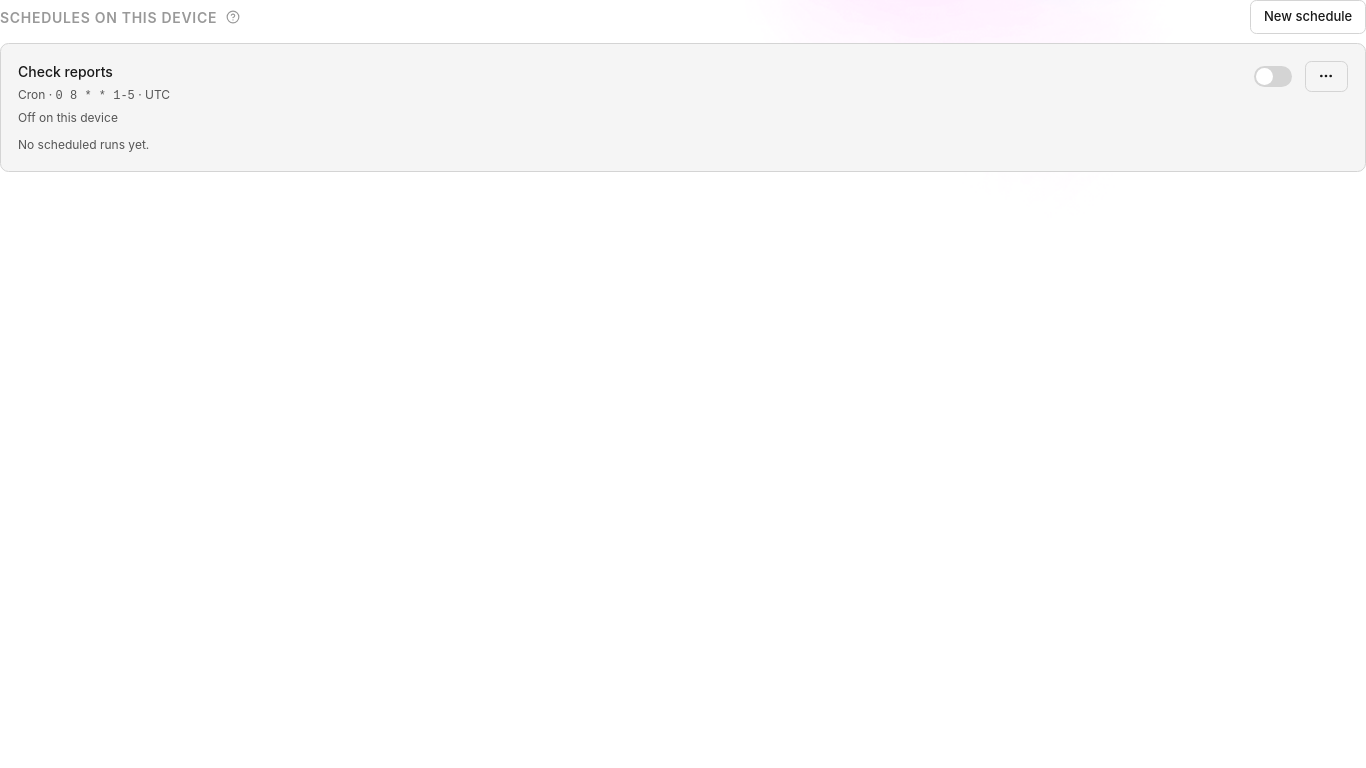
keeps a failed deletion confirmation open and reports the failure beside its action
Click the button named "Actions for Check reports" at (1326, 76), box [1304, 61, 1348, 92]
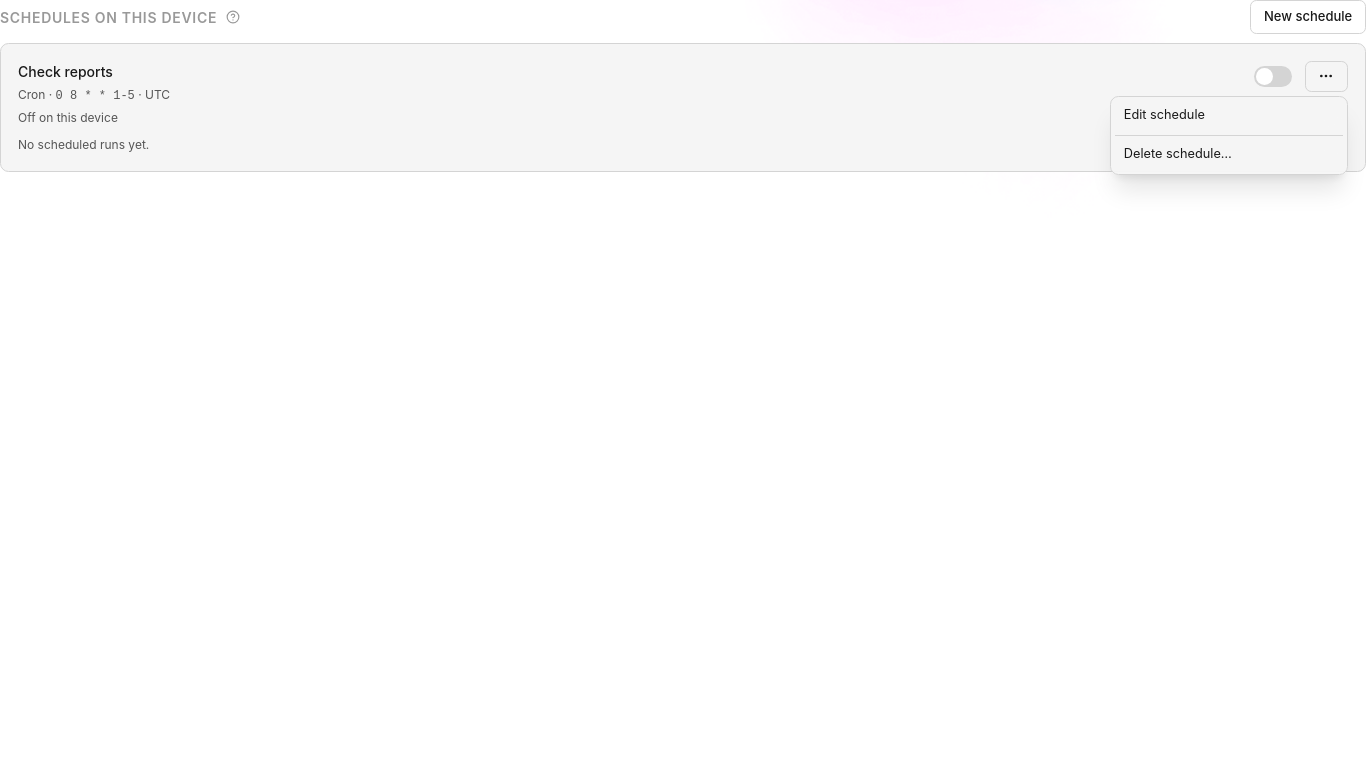
Click the menu item "Delete schedule…" at (1229, 155), box [1115, 140, 1343, 170]
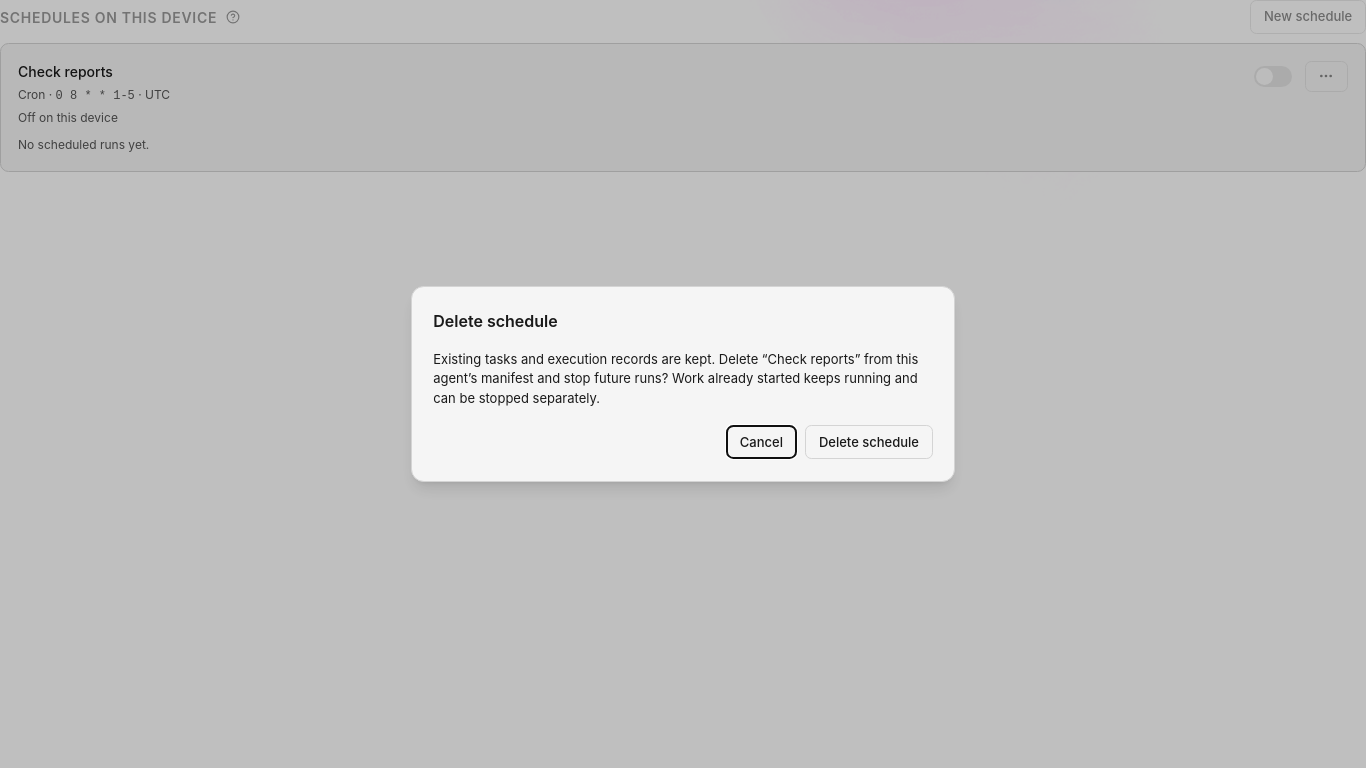
expect the dialog "Delete schedule" shows "Existing tasks and execution records are kept.": met, box [433, 351, 768, 367]
Click the button "Delete schedule" at (869, 442), box [805, 425, 933, 459]
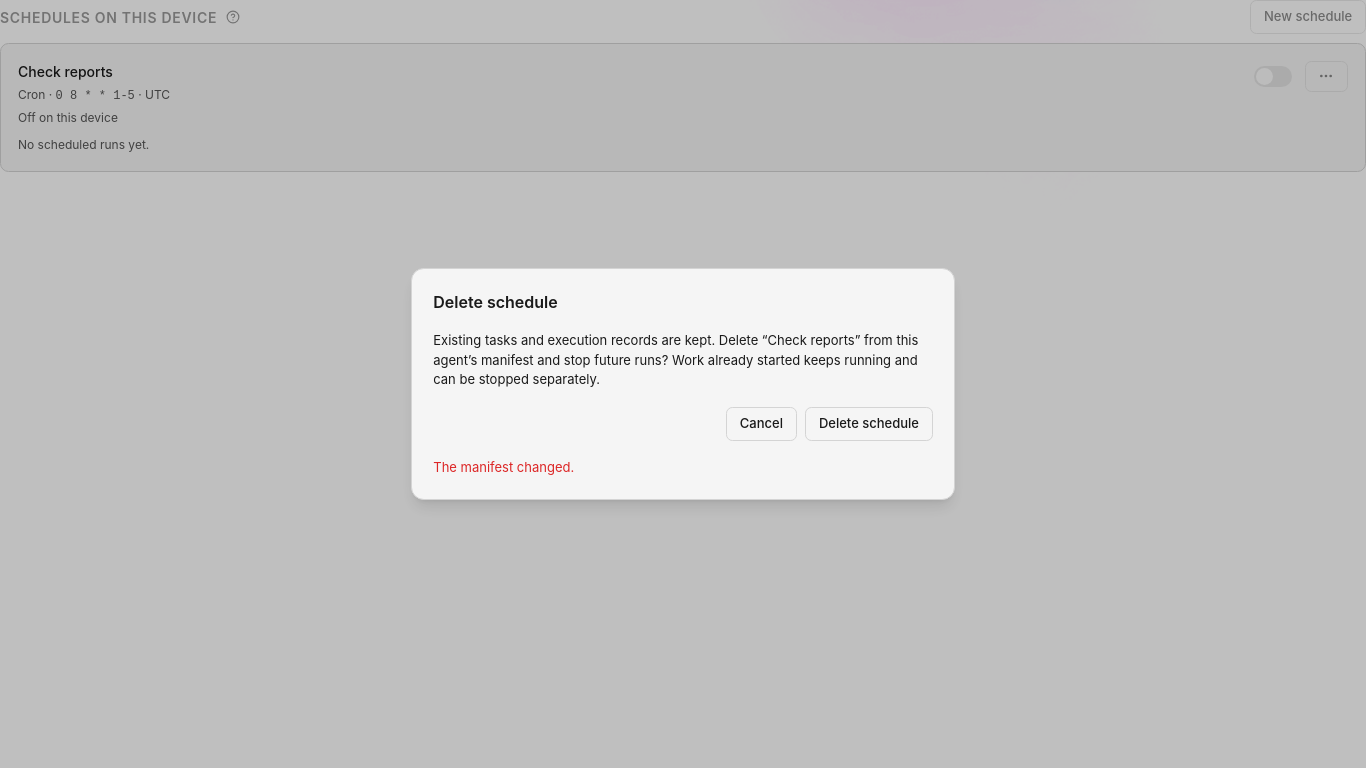
expect the dialog "Delete schedule" is shown: met, box [411, 268, 955, 500]
expect the message reads "The manifest changed.": met, box [433, 459, 574, 475]
